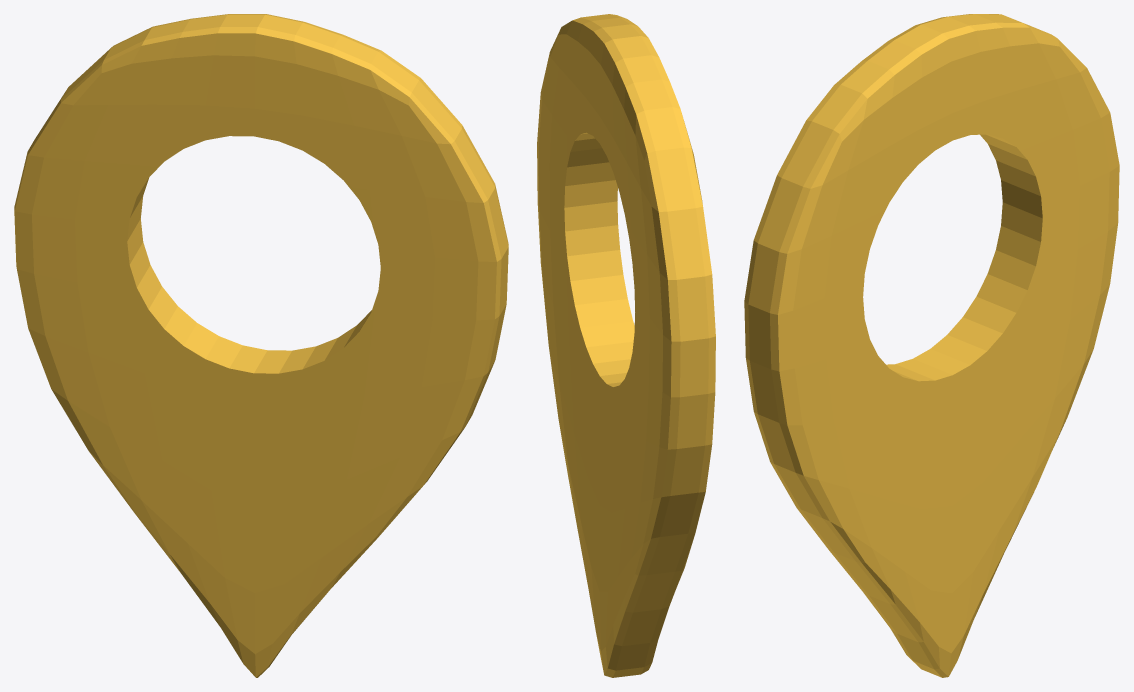
Rendered from MarcadorPuertoMadero-OLD.gltf.
3 renders of one model, left to right at view 1: azimuth 30°, elevation 25°; view 2: azimuth 150°, elevation 25°; view 3: azimuth 270°, elevation 25°, orthographic.
Visible parts, largest first — view 1: MarcadorPuertoMadero; view 2: MarcadorPuertoMadero; view 3: MarcadorPuertoMadero.
Part boxes in pixels (left/top/right/bottom): MarcadorPuertoMadero: left=14, top=14, right=508, bottom=677; MarcadorPuertoMadero: left=537, top=14, right=715, bottom=677; MarcadorPuertoMadero: left=744, top=14, right=1119, bottom=677.
Bounding box in the file's own units: 0.3866 × 0.7114 × 0.3754.
